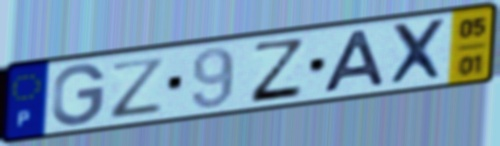9: (190, 45, 236, 111)
A: (318, 27, 390, 95)
G: (49, 62, 108, 129)
X: (387, 15, 449, 89)
Z: (247, 37, 307, 106), (109, 54, 170, 121)
